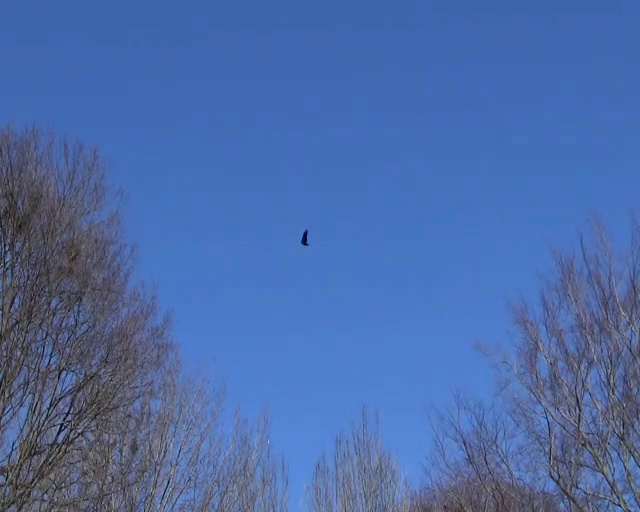BIRD: (302, 230, 310, 245)
